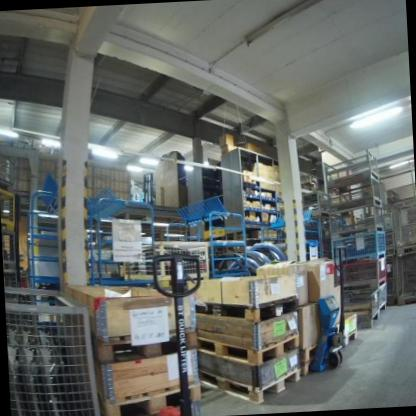pallet: (197, 360, 302, 409), (90, 323, 200, 367), (194, 328, 300, 371), (96, 381, 204, 416), (194, 294, 300, 326), (296, 356, 317, 375), (301, 344, 318, 360)
pallet_truck: (128, 253, 210, 416), (303, 242, 357, 376)
stillage: (4, 279, 99, 416), (316, 174, 384, 211), (336, 282, 383, 334), (320, 149, 375, 188), (324, 202, 385, 234), (331, 229, 387, 261), (389, 199, 416, 251), (392, 251, 416, 306), (335, 258, 389, 282), (378, 281, 389, 311)
